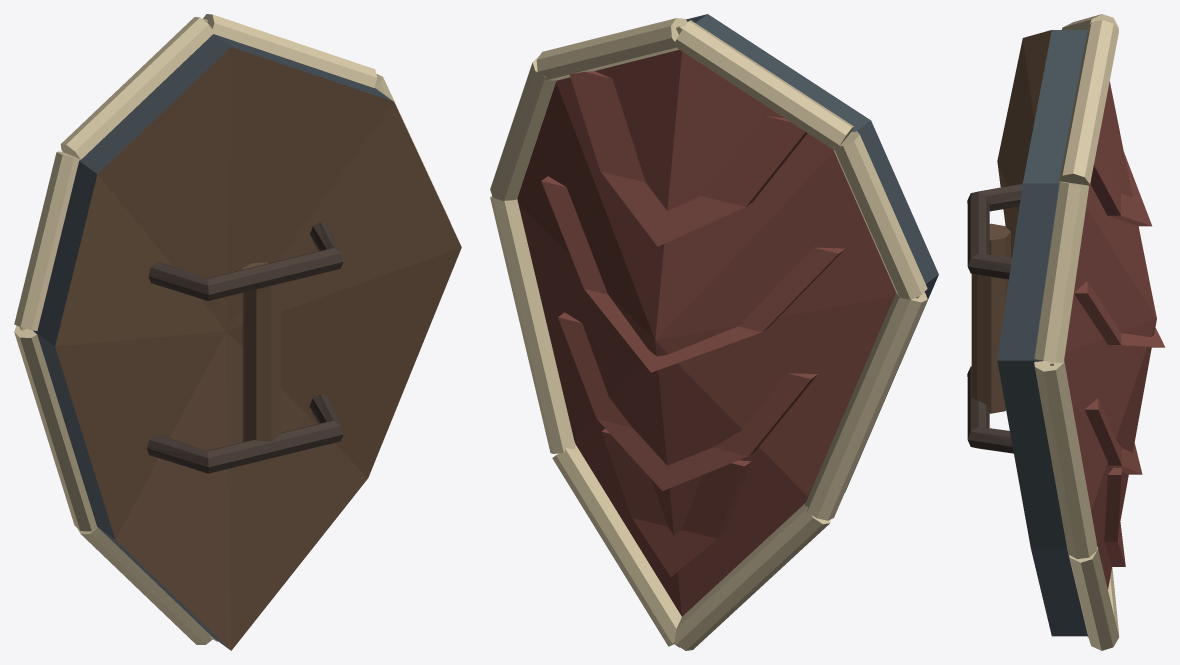
Rendered from AEW_Shield_DragonScale.fbx.
3 renders of one model, left to right at view 1: azimuth 30°, elevation 25°; view 2: azimuth 150°, elevation 25°; view 3: azimuth 270°, elevation 25°, orthographic.
Visible parts, largest first — view 1: AEW_Shield_DragonScale; view 2: AEW_Shield_DragonScale; view 3: AEW_Shield_DragonScale.
Boxes of the visible parts, left/top/right/bottom form: AEW_Shield_DragonScale: left=14, top=14, right=461, bottom=650; AEW_Shield_DragonScale: left=490, top=14, right=938, bottom=650; AEW_Shield_DragonScale: left=967, top=14, right=1165, bottom=650.
Size of the model in its own units: 0.7837 by 1.09 by 0.3107.
